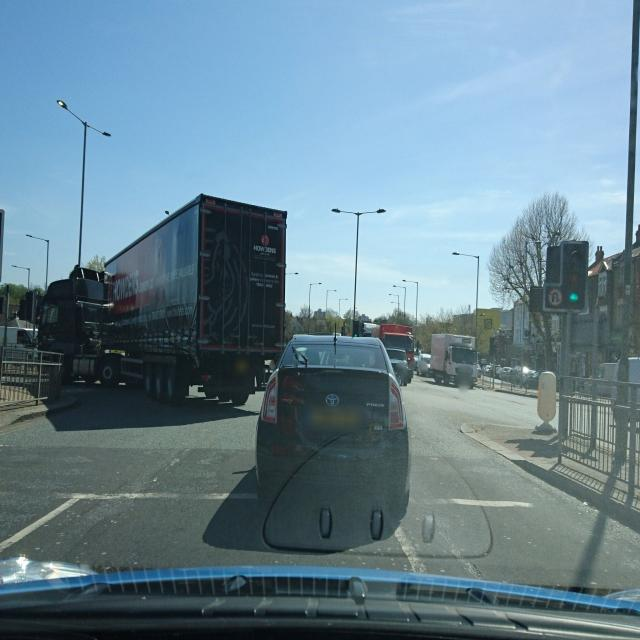car: (256, 333, 412, 535), (385, 347, 412, 385), (416, 353, 432, 376), (498, 366, 512, 380)
